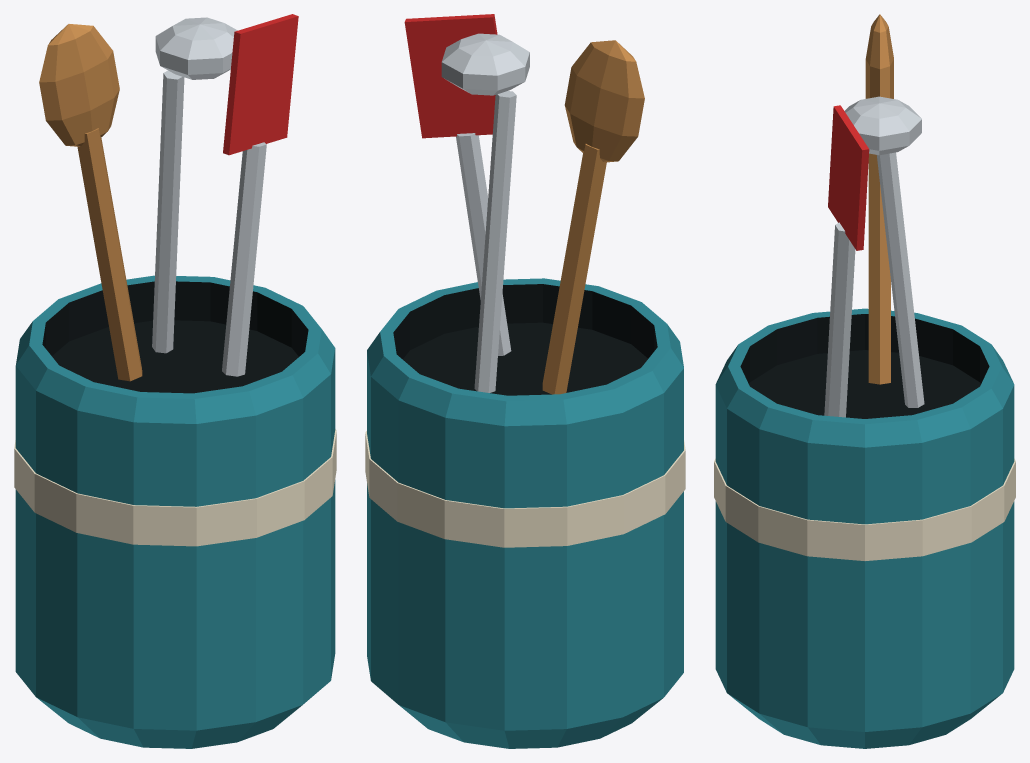
Rendered from utensil_pot.glb.
3 renders of one model, left to right at view 1: azimuth 30°, elevation 25°; view 2: azimuth 150°, elevation 25°; view 3: azimuth 270°, elevation 25°, orthographic. The views are drawn at different scales.
Parts seen in each view (by area): view 1: UtensilPot; view 2: UtensilPot; view 3: UtensilPot.
Boxes of the visible parts, x1,y1,x2,y2 form: UtensilPot: [14, 14, 336, 748]; UtensilPot: [365, 14, 685, 748]; UtensilPot: [714, 14, 1015, 748].
Size of the model in its own units: 6.06 by 14.22 by 6.06.
